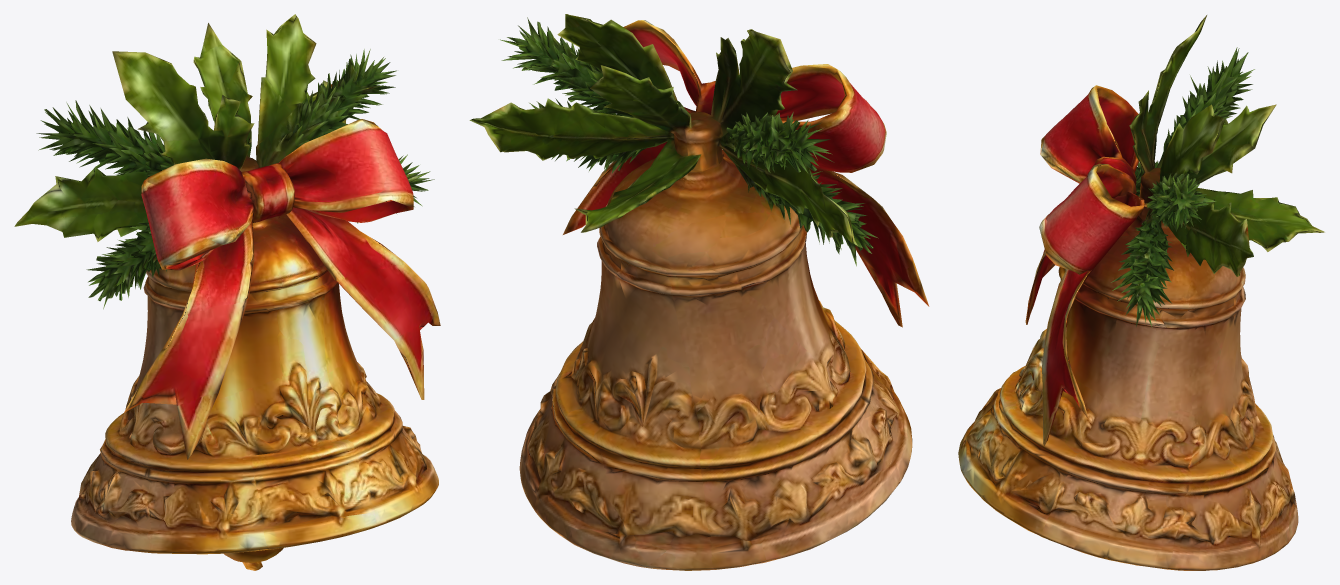
File: bell.glb
The picture shows the model from 3 angles, left to right: view 1: azimuth 30°, elevation 25°; view 2: azimuth 150°, elevation 25°; view 3: azimuth 270°, elevation 25°; orthographic projection. The views are drawn at different scales.
Visible parts, largest first — view 1: tripo_node_e3710154-8226-4e96-9a0e-38918b2b5900; view 2: tripo_node_e3710154-8226-4e96-9a0e-38918b2b5900; view 3: tripo_node_e3710154-8226-4e96-9a0e-38918b2b5900.
Part boxes in pixels (<box>): tripo_node_e3710154-8226-4e96-9a0e-38918b2b5900: <box>14,14,440,570</box>; tripo_node_e3710154-8226-4e96-9a0e-38918b2b5900: <box>469,14,929,570</box>; tripo_node_e3710154-8226-4e96-9a0e-38918b2b5900: <box>958,15,1324,570</box>.
Size of the model in its own units: 0.6413 by 0.8432 by 0.57.
Materials: 1 (1 with a texture image).
